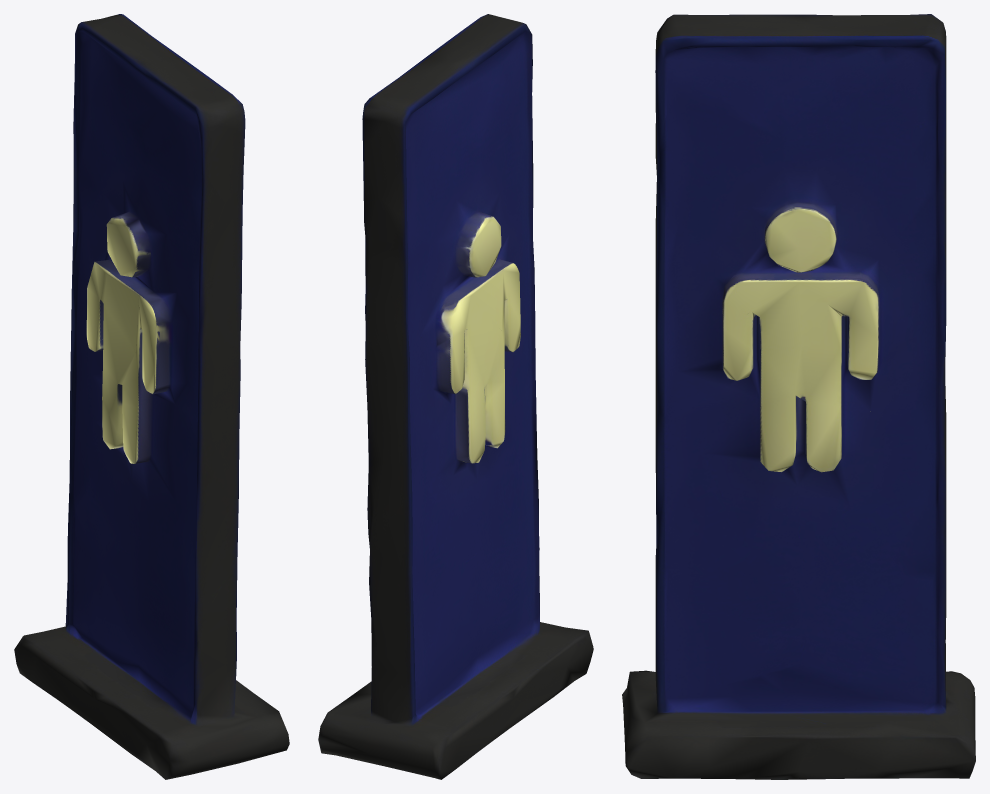
The model's file is sign-men.glb.
3 renders of one model, left to right at view 1: azimuth 30°, elevation 25°; view 2: azimuth 150°, elevation 25°; view 3: azimuth 270°, elevation 25°, orthographic. The views are drawn at different scales.
Parts seen in each view (by area): view 1: tripo_node_fdcf8b80-3734-4c04-9cbe-c735c1f8e5a8; view 2: tripo_node_fdcf8b80-3734-4c04-9cbe-c735c1f8e5a8; view 3: tripo_node_fdcf8b80-3734-4c04-9cbe-c735c1f8e5a8.
Part boxes in pixels (<box>): tripo_node_fdcf8b80-3734-4c04-9cbe-c735c1f8e5a8: <box>14,14,289,779</box>; tripo_node_fdcf8b80-3734-4c04-9cbe-c735c1f8e5a8: <box>318,14,593,779</box>; tripo_node_fdcf8b80-3734-4c04-9cbe-c735c1f8e5a8: <box>622,14,975,779</box>.
Size of the model in its own units: 0.1944 by 1 by 0.4411.
Materials: 1 (1 with a texture image).
